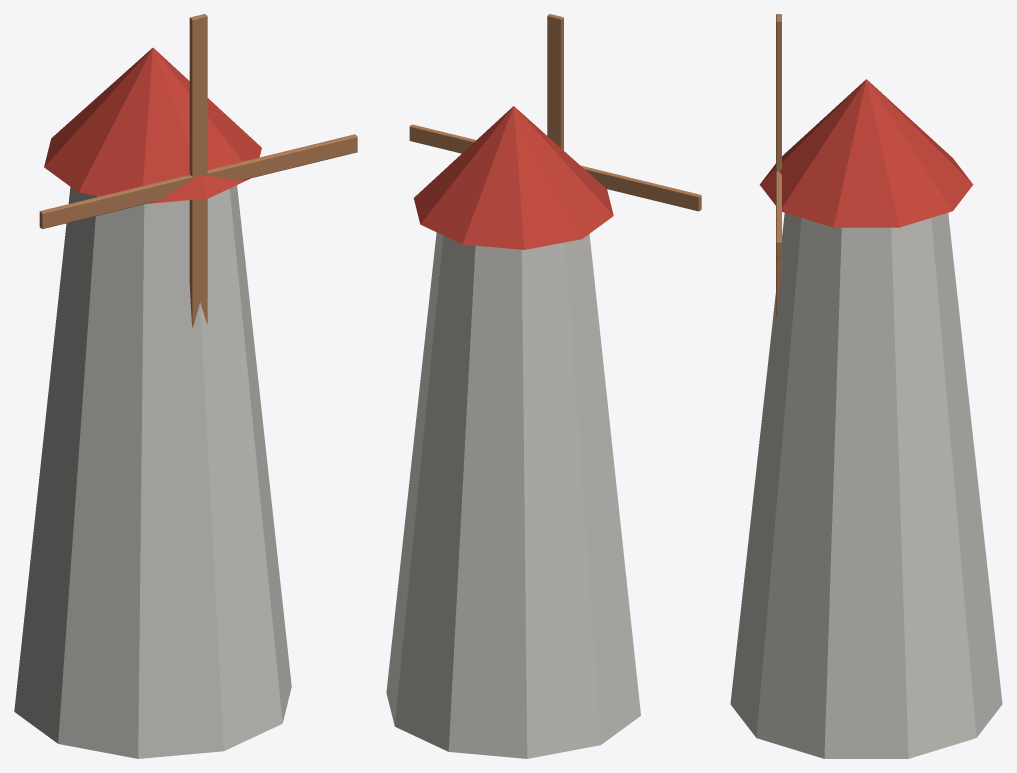
The model's file is Horse_Windmill.fbx.
The picture shows the model from 3 angles, left to right: view 1: azimuth 30°, elevation 25°; view 2: azimuth 150°, elevation 25°; view 3: azimuth 270°, elevation 25°; orthographic projection. The views are drawn at different scales.
Visible parts, largest first — view 1: Windmill; view 2: Windmill; view 3: Windmill.
Part boxes in pixels (x1,y1,x2,y2): Windmill: [14, 14, 357, 758]; Windmill: [386, 14, 701, 758]; Windmill: [730, 14, 1002, 758].
Size of the model in its own units: 3.6 by 7.8 by 2.8.
